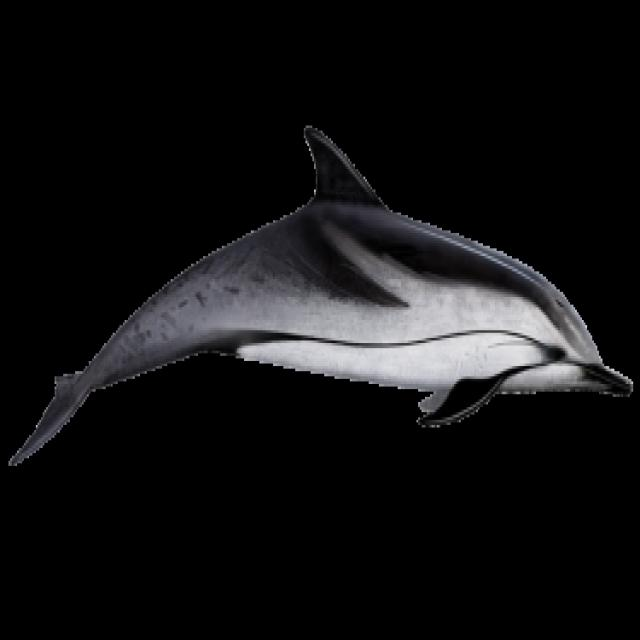penguin: (10, 125, 631, 463)
